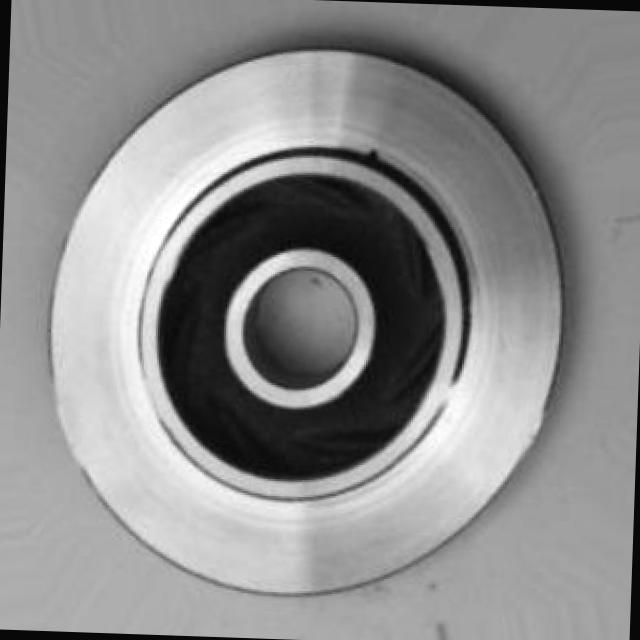Defect: (360, 144, 387, 167)
